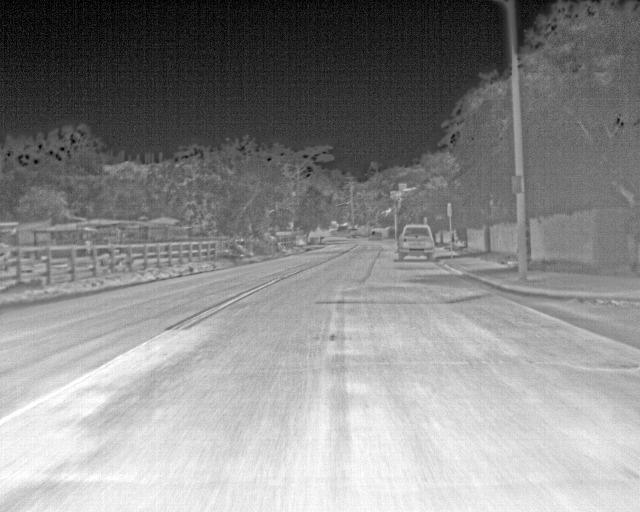car: (397, 222, 435, 261)
